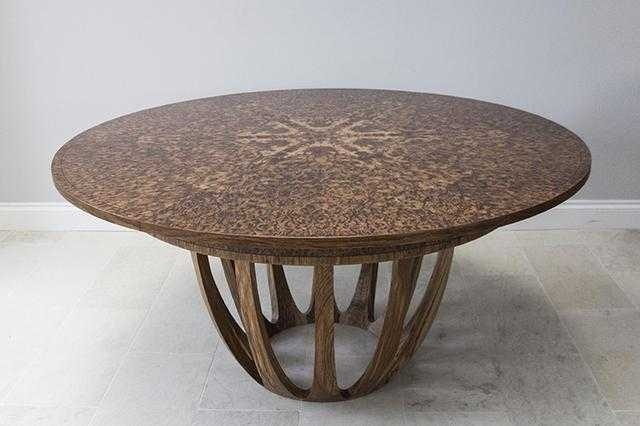obstacle: (52, 89, 590, 401)
